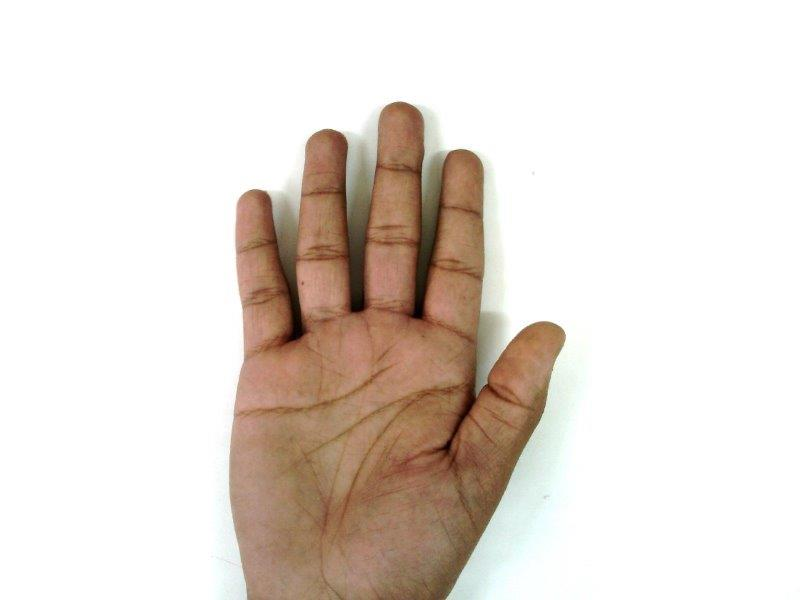hand: (227, 103, 565, 600)
